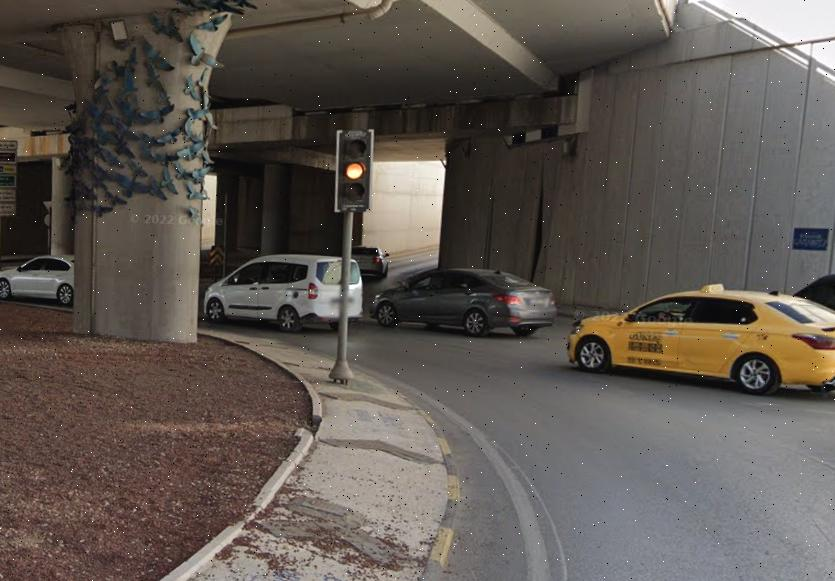yellowlight: (335, 134, 372, 210)
